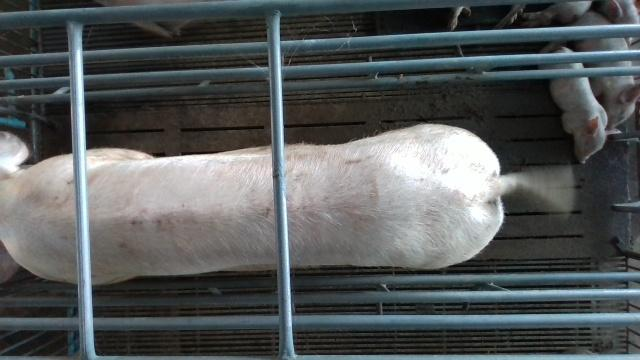piglet: (543, 9, 640, 130), (540, 45, 608, 164)
sow-stand-feed: (0, 124, 574, 285)
